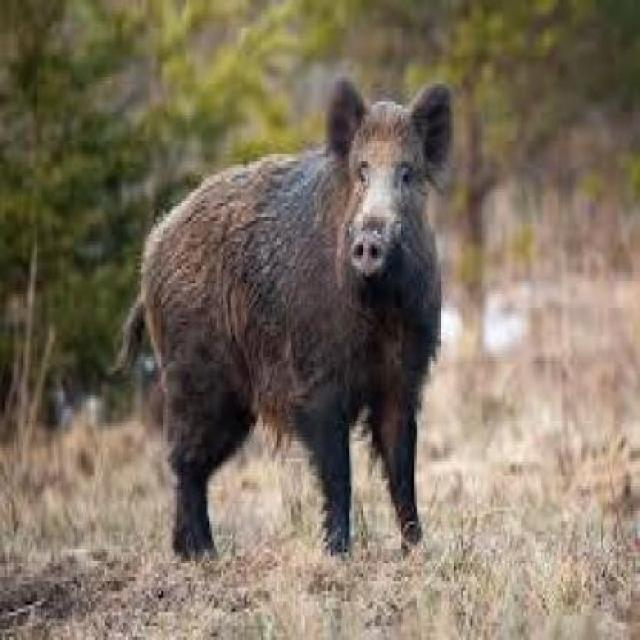wildboar: (112, 73, 457, 565)
